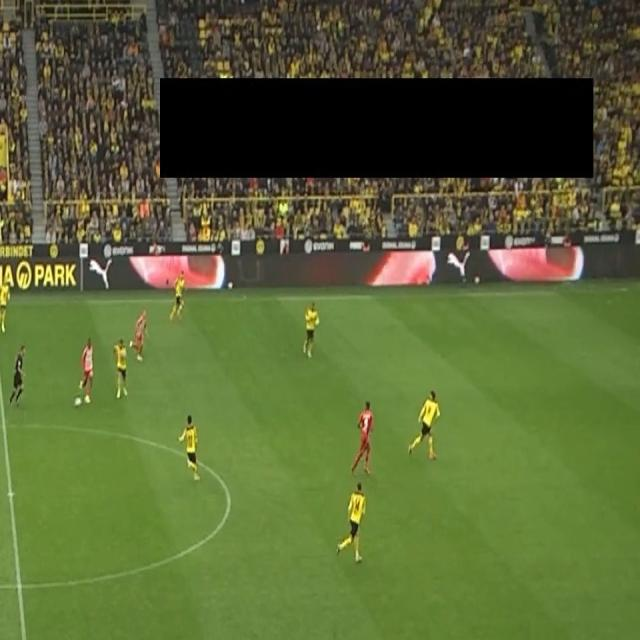ball: (74, 395, 82, 408)
